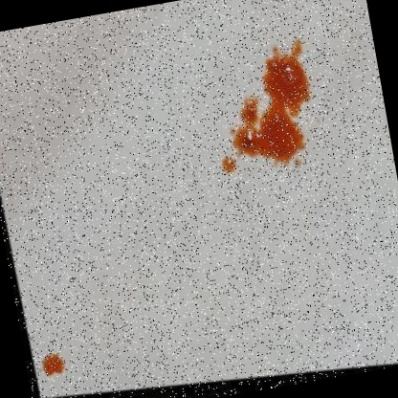kimchi: (200, 40, 328, 187), (37, 346, 64, 383)
